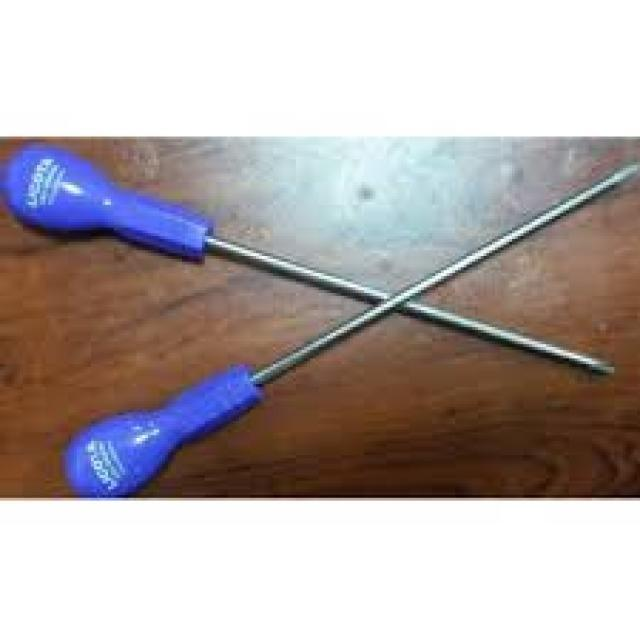screwdriver: (65, 138, 640, 499), (0, 138, 623, 380)
